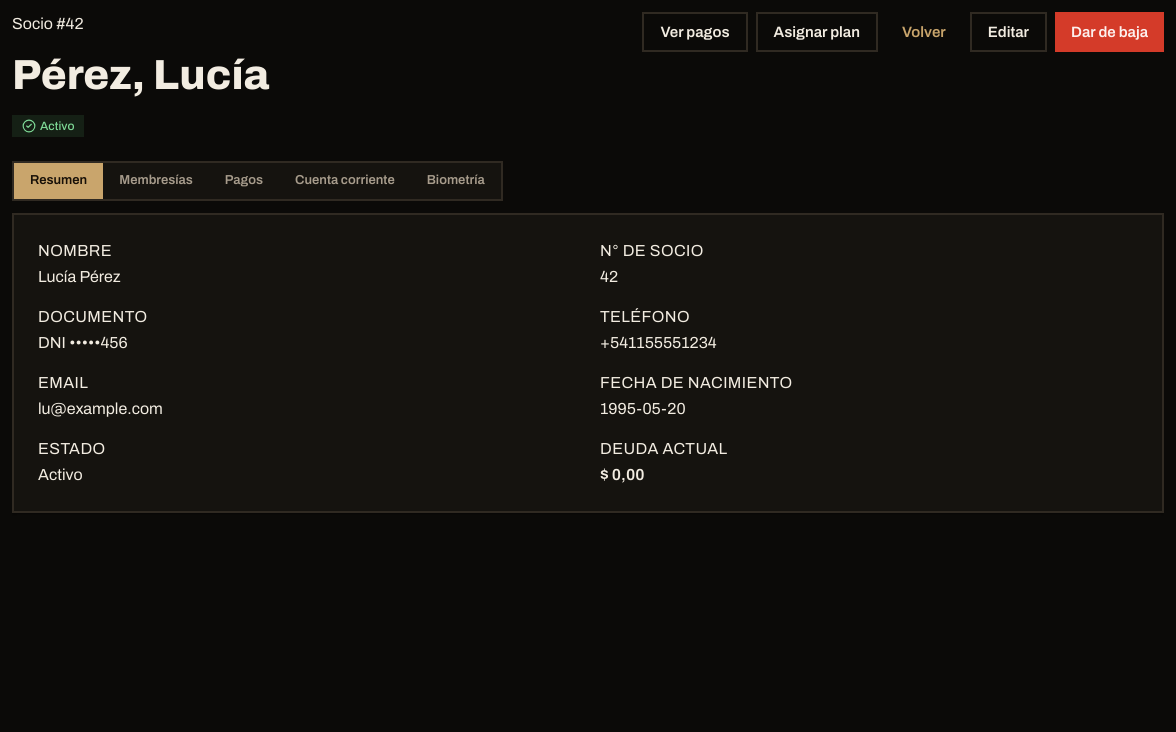
MemberDetailPage › tab Pagos muestra el historial, el medio, quién lo registró y los totales
The width and height of the screenshot is (1176, 732).
expect the heading "Pérez, Lucía" is shown: met, box [12,44,269,107]
Click the tab "Pagos". click: (244, 181)
box: [209,163,279,198]
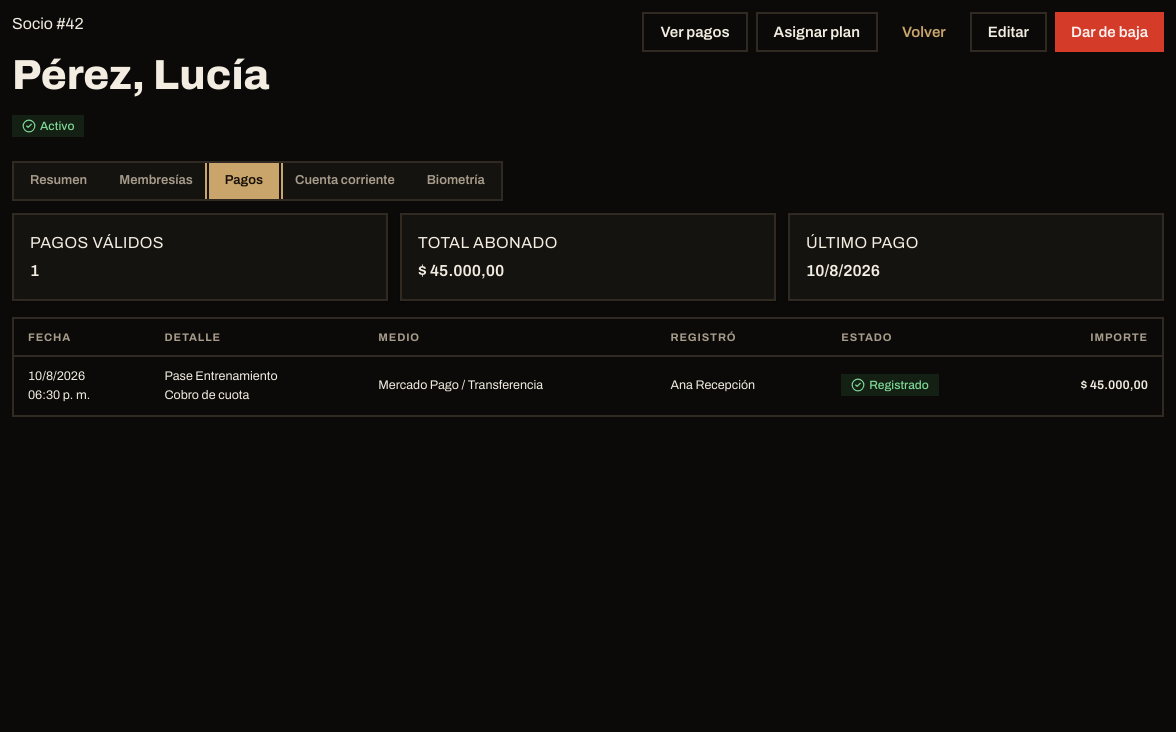
expect the text "Pase Entrenamiento" is shown: met, box [164,369,278,383]
expect the text "Mercado Pago / Transferencia" is shown: met, box [364,357,656,414]
expect the text "Ana Recepción" is shown: met, box [656,357,827,414]
